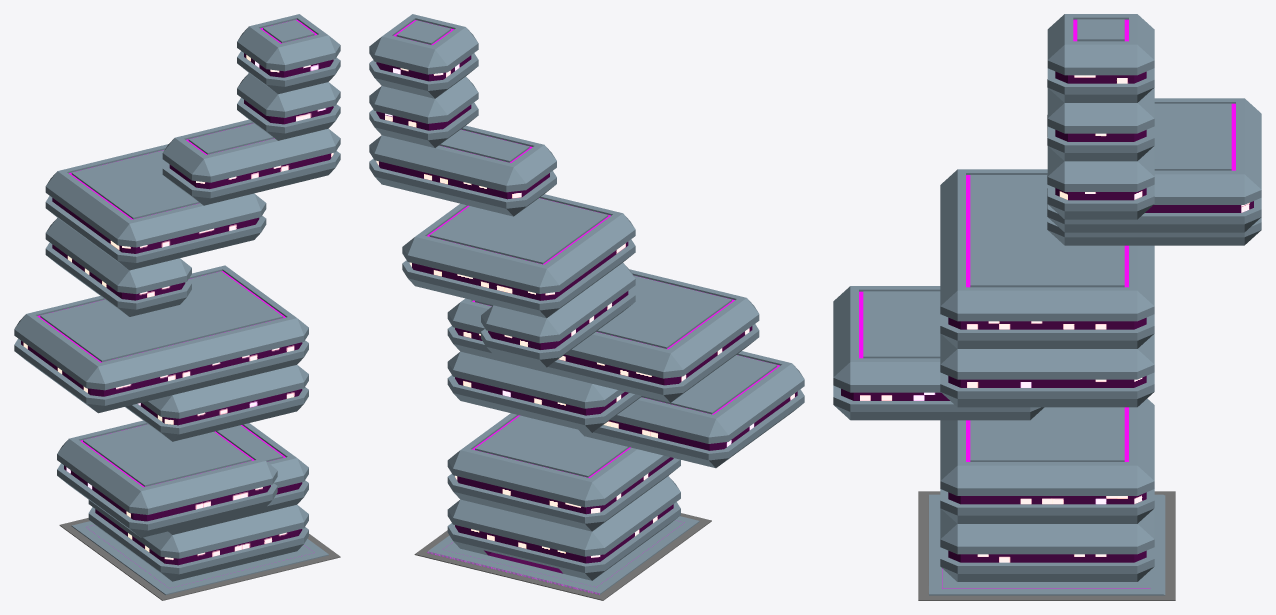
File: Bina 18.fbx
3 views of the same model, side by side, from view 1: azimuth 30°, elevation 25°; view 2: azimuth 150°, elevation 25°; view 3: azimuth 270°, elevation 25° (orthographic). The views are drawn at different scales.
Parts seen in each view (by area): view 1: HD_2, HDStand_2; view 2: HD_2, HDStand_2; view 3: HD_2, HDStand_2.
Part boxes in pixels (x1=…): HD_2: x1=14, y1=14, x2=340, y2=581; HDStand_2: x1=59, y1=518, x2=340, y2=600; HD_2: x1=369, y1=14, x2=804, y2=580; HDStand_2: x1=414, y1=513, x2=711, y2=600; HD_2: x1=833, y1=14, x2=1261, y2=581; HDStand_2: x1=918, y1=491, x2=1175, y2=600.
Size of the model in its own units: 64.23 by 96.66 by 64.23.
Materials: 3 (3 with a texture image).
